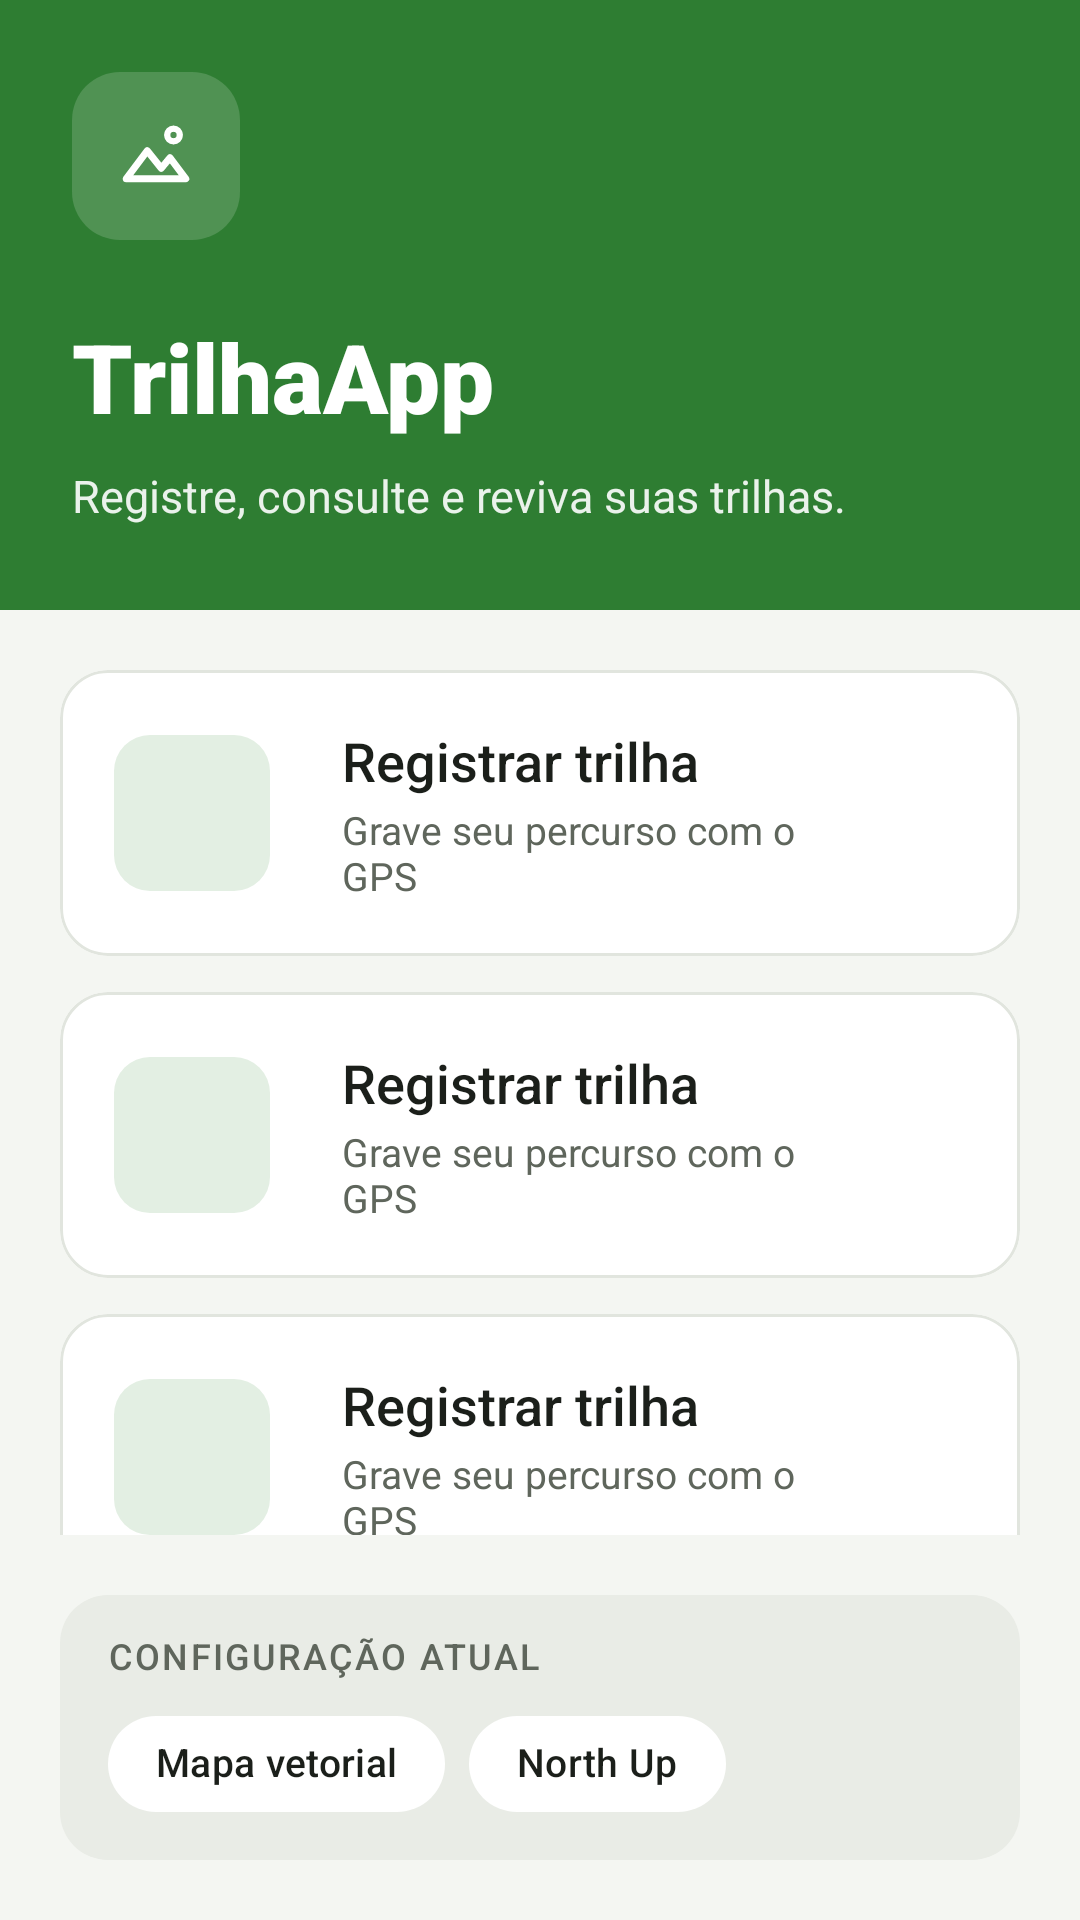

Icon bounding boxes for this 1080x1920 phone screenshot, format (x1, y1, x2, y2):
mountain: (72, 72, 240, 240)
